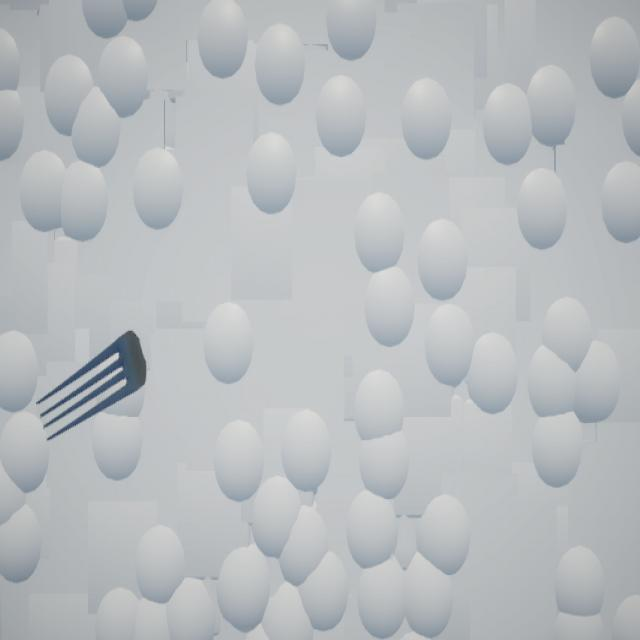top_folk: (37, 331, 147, 442)
